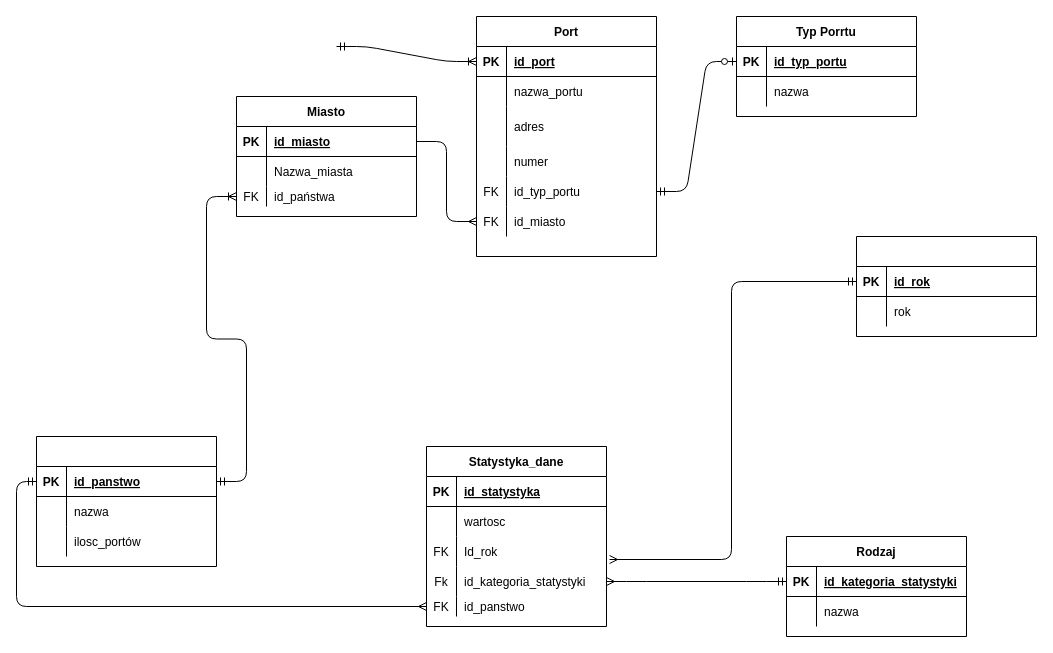
Image size: 1053x653. Some labels were removed from this diagram. The shapes that lost their labels are listed below. From the top down, each one's box as (x1, y1, x2, y2) in pixels, then its label:
(856, 236, 1036, 336): Table
(36, 436, 216, 566): Państwo
